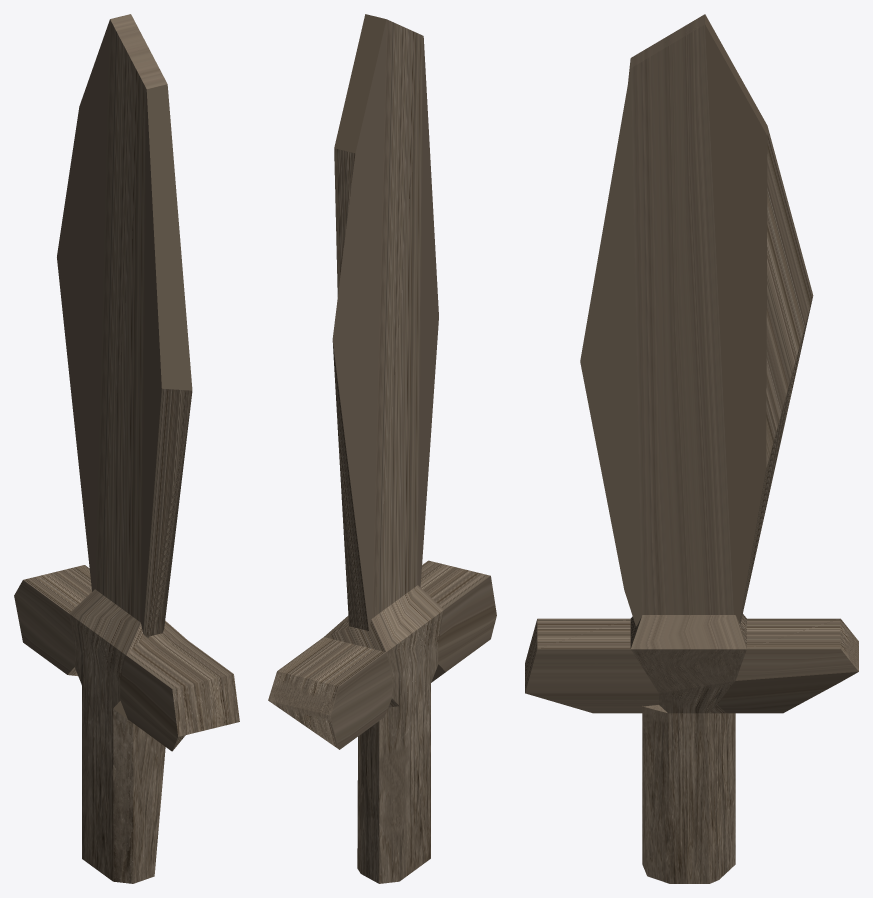
The model's file is epee.fbx.
3 views of the same model, side by side, from view 1: azimuth 30°, elevation 25°; view 2: azimuth 150°, elevation 25°; view 3: azimuth 270°, elevation 25° (orthographic).
Parts seen in each view (by area): view 1: Cube.001, Cube; view 2: Cube.001, Cube; view 3: Cube.001, Cube.
Part boxes in pixels (x1,y1,x2,y2): Cube.001: (57, 14, 192, 637); Cube: (14, 565, 239, 883); Cube.001: (332, 14, 438, 630); Cube: (268, 560, 496, 883); Cube.001: (580, 14, 813, 626); Cube: (525, 614, 858, 883).
Bounding box in the file's own units: 69.34 × 905 × 319.
2 materials, 2 textured.
